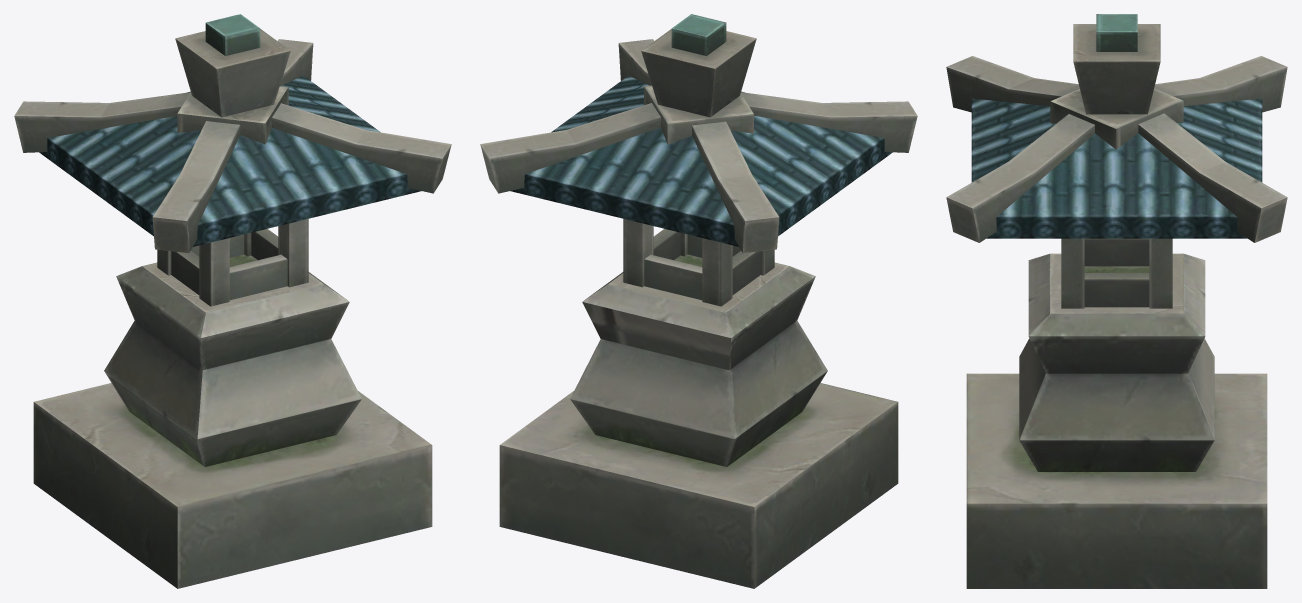
Rendered from cj_luoyang_shideng03_53_50_3194out.fbx.
3 renders of one model, left to right at view 1: azimuth 30°, elevation 25°; view 2: azimuth 150°, elevation 25°; view 3: azimuth 270°, elevation 25°, orthographic. The views are drawn at different scales.
Parts seen in each view (by area): view 1: cj_luoyang_shideng03; view 2: cj_luoyang_shideng03; view 3: cj_luoyang_shideng03.
Part boxes in pixels (x1,y1,x2,y2): cj_luoyang_shideng03: (14, 14, 451, 588); cj_luoyang_shideng03: (480, 14, 917, 588); cj_luoyang_shideng03: (946, 14, 1287, 588).
Bounding box in the file's own units: 1.24 × 1.9 × 1.18.
